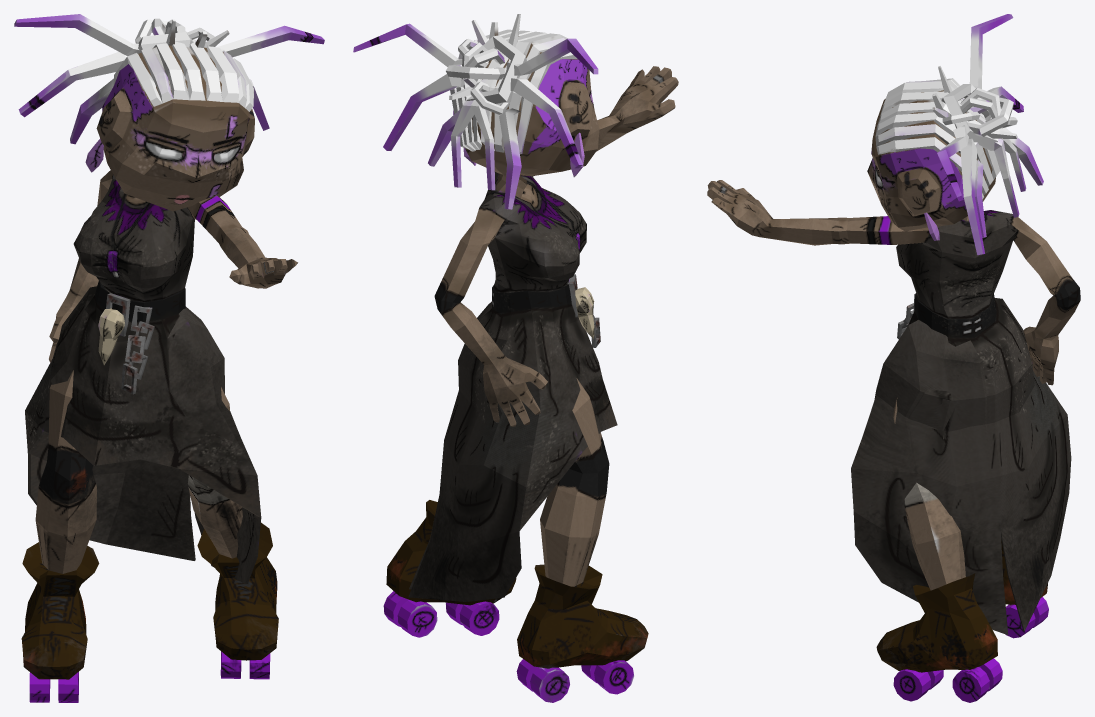
The model's file is bruja_000031.obj.
3 renders of one model, left to right at view 1: azimuth 30°, elevation 25°; view 2: azimuth 150°, elevation 25°; view 3: azimuth 270°, elevation 25°, orthographic. The views are drawn at different scales.
Parts seen in each view (by area): view 1: Bruja_Plane.001; view 2: Bruja_Plane.001; view 3: Bruja_Plane.001.
Part boxes in pixels (left/top/right/bottom): Bruja_Plane.001: left=14, top=14, right=324, bottom=702; Bruja_Plane.001: left=353, top=14, right=678, bottom=702; Bruja_Plane.001: left=707, top=14, right=1080, bottom=702.
Bounding box in the file's own units: 7.73 × 16.42 × 9.14.
